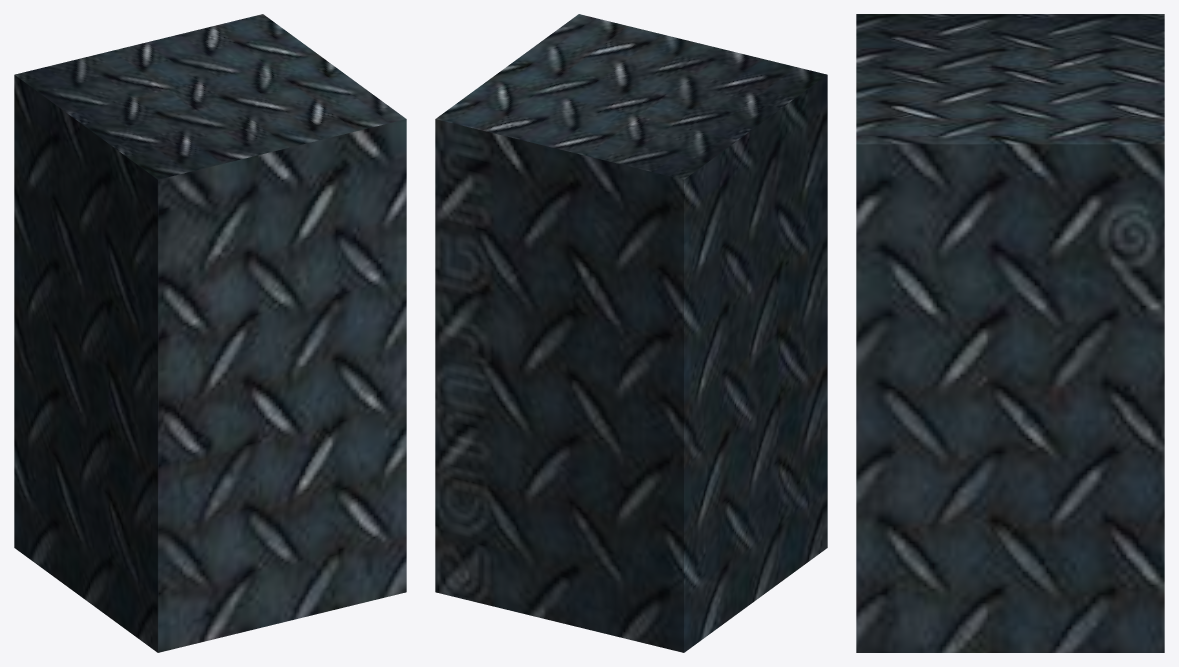
The model's file is _1entrees.glb.
3 views of the same model, side by side, from view 1: azimuth 30°, elevation 25°; view 2: azimuth 150°, elevation 25°; view 3: azimuth 270°, elevation 25° (orthographic). The views are drawn at different scales.
Parts seen in each view (by area): view 1: Cube.010; view 2: Cube.010; view 3: Cube.010.
Boxes of the visible parts, <box> form: Cube.010: <box>14,14,406,652</box>; Cube.010: <box>435,14,827,652</box>; Cube.010: <box>856,14,1164,652</box>.
Size of the model in its own units: 0.44 by 0.8 by 0.44.
Materials: 1 (1 with a texture image).
